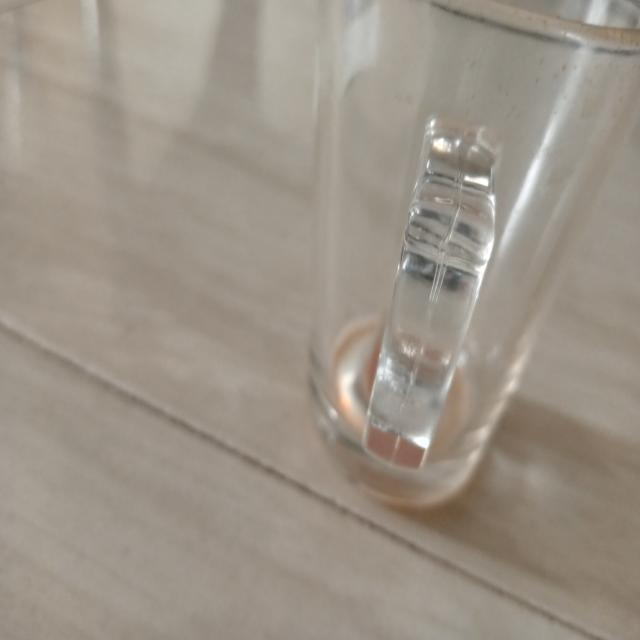glass-VX4N: (301, 1, 640, 517)
